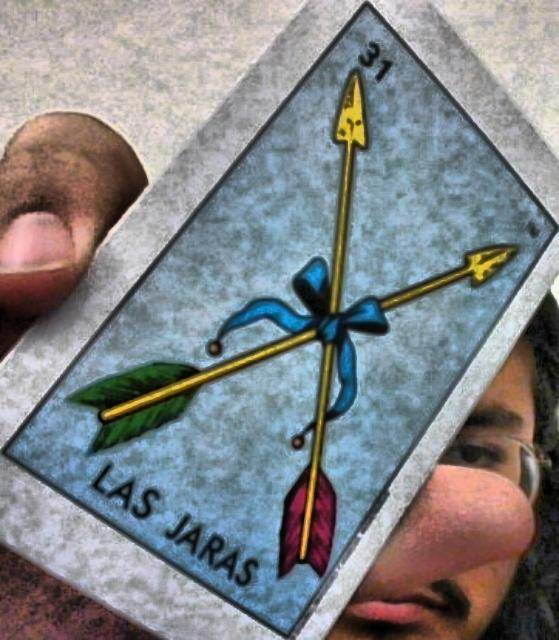Las Jaras: (1, 8, 554, 635)
